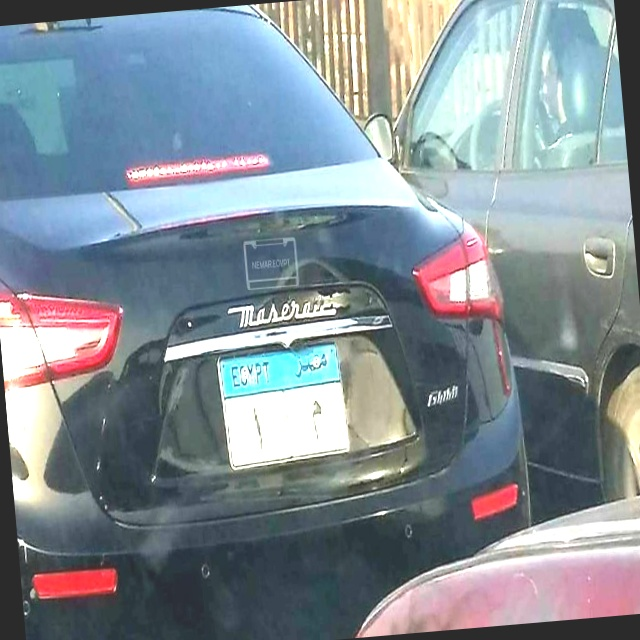License Plate: (214, 338, 354, 475)
